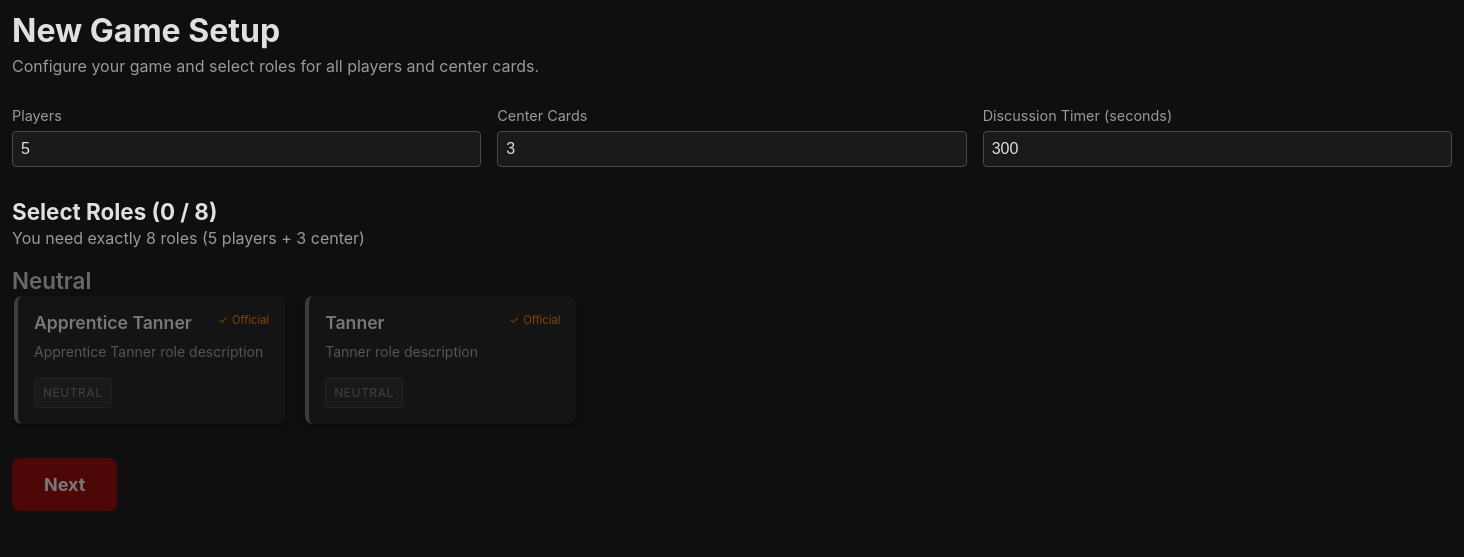
GameSetupPage › dependency auto-selection › removing dependent does NOT remove required (one-way)
// Select Apprentice Tanner (auto-selects Tanner)
Click the text "Apprentice Tanner".
click(150, 360)  # box [12,294,287,426]
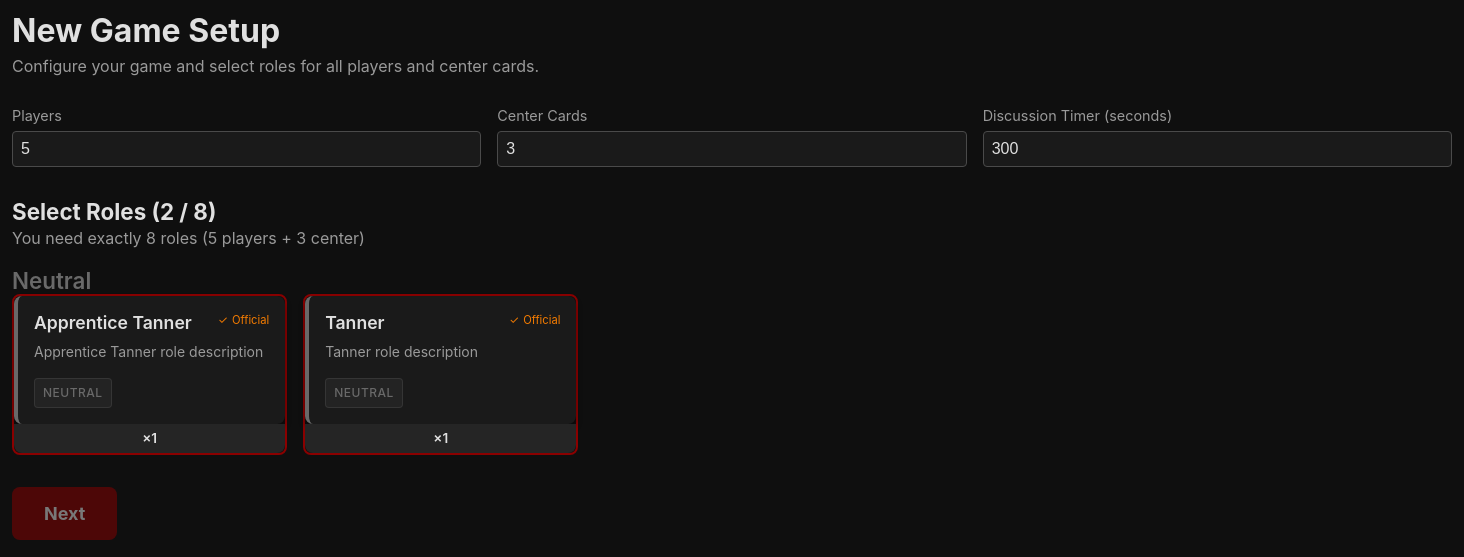
Expected: the heading "Select Roles (2 / 8)" is shown, [12,198,216,225]
// Remove Apprentice Tanner → Tanner should stay
Click the text "Apprentice Tanner".
click(150, 375)  # box [12,294,287,455]
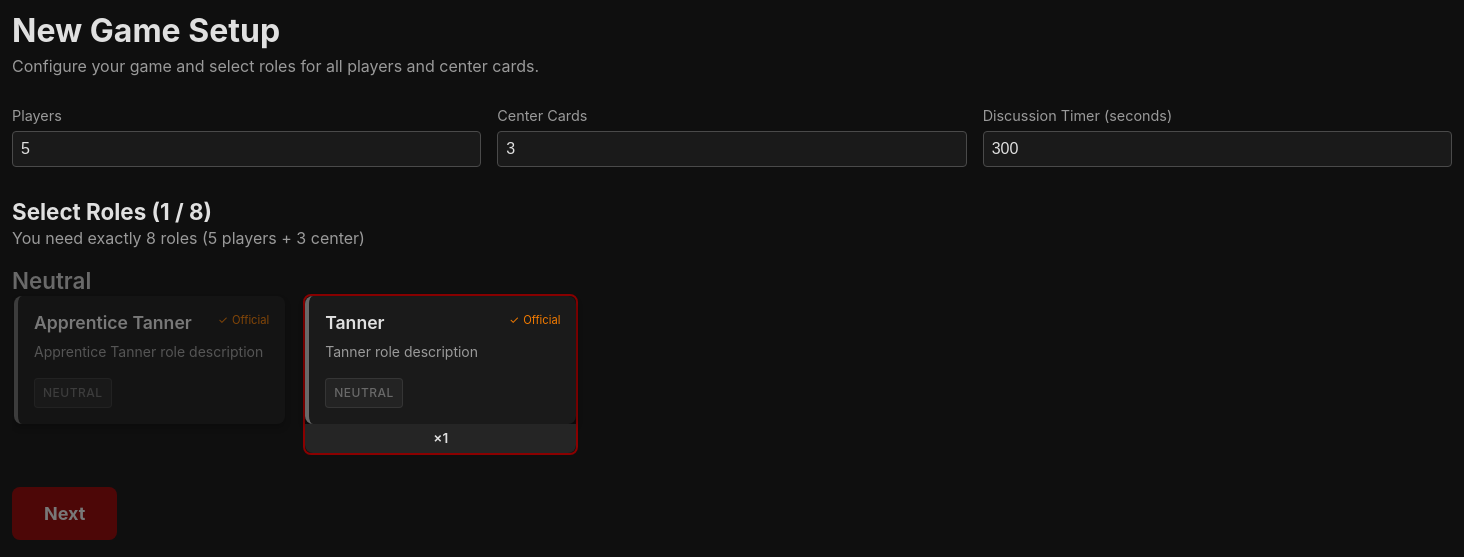
Expected: the heading "Select Roles (1 / 8)" is shown, [12,198,212,225]
